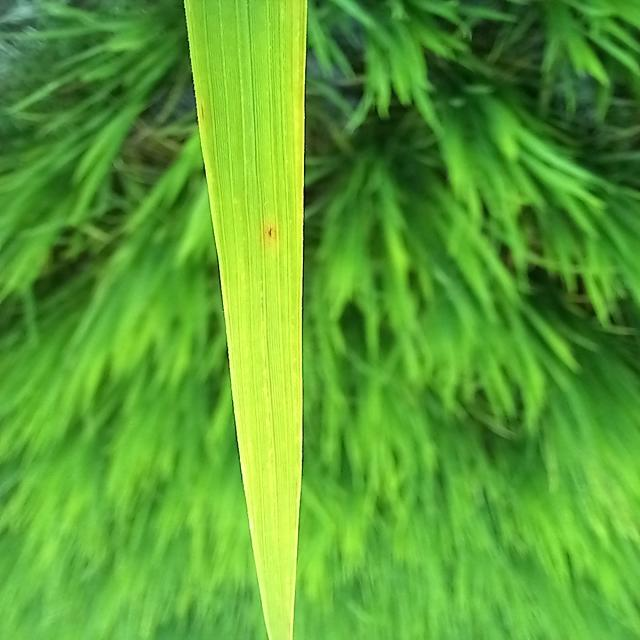Brown_Spot: (260, 216, 278, 248)
